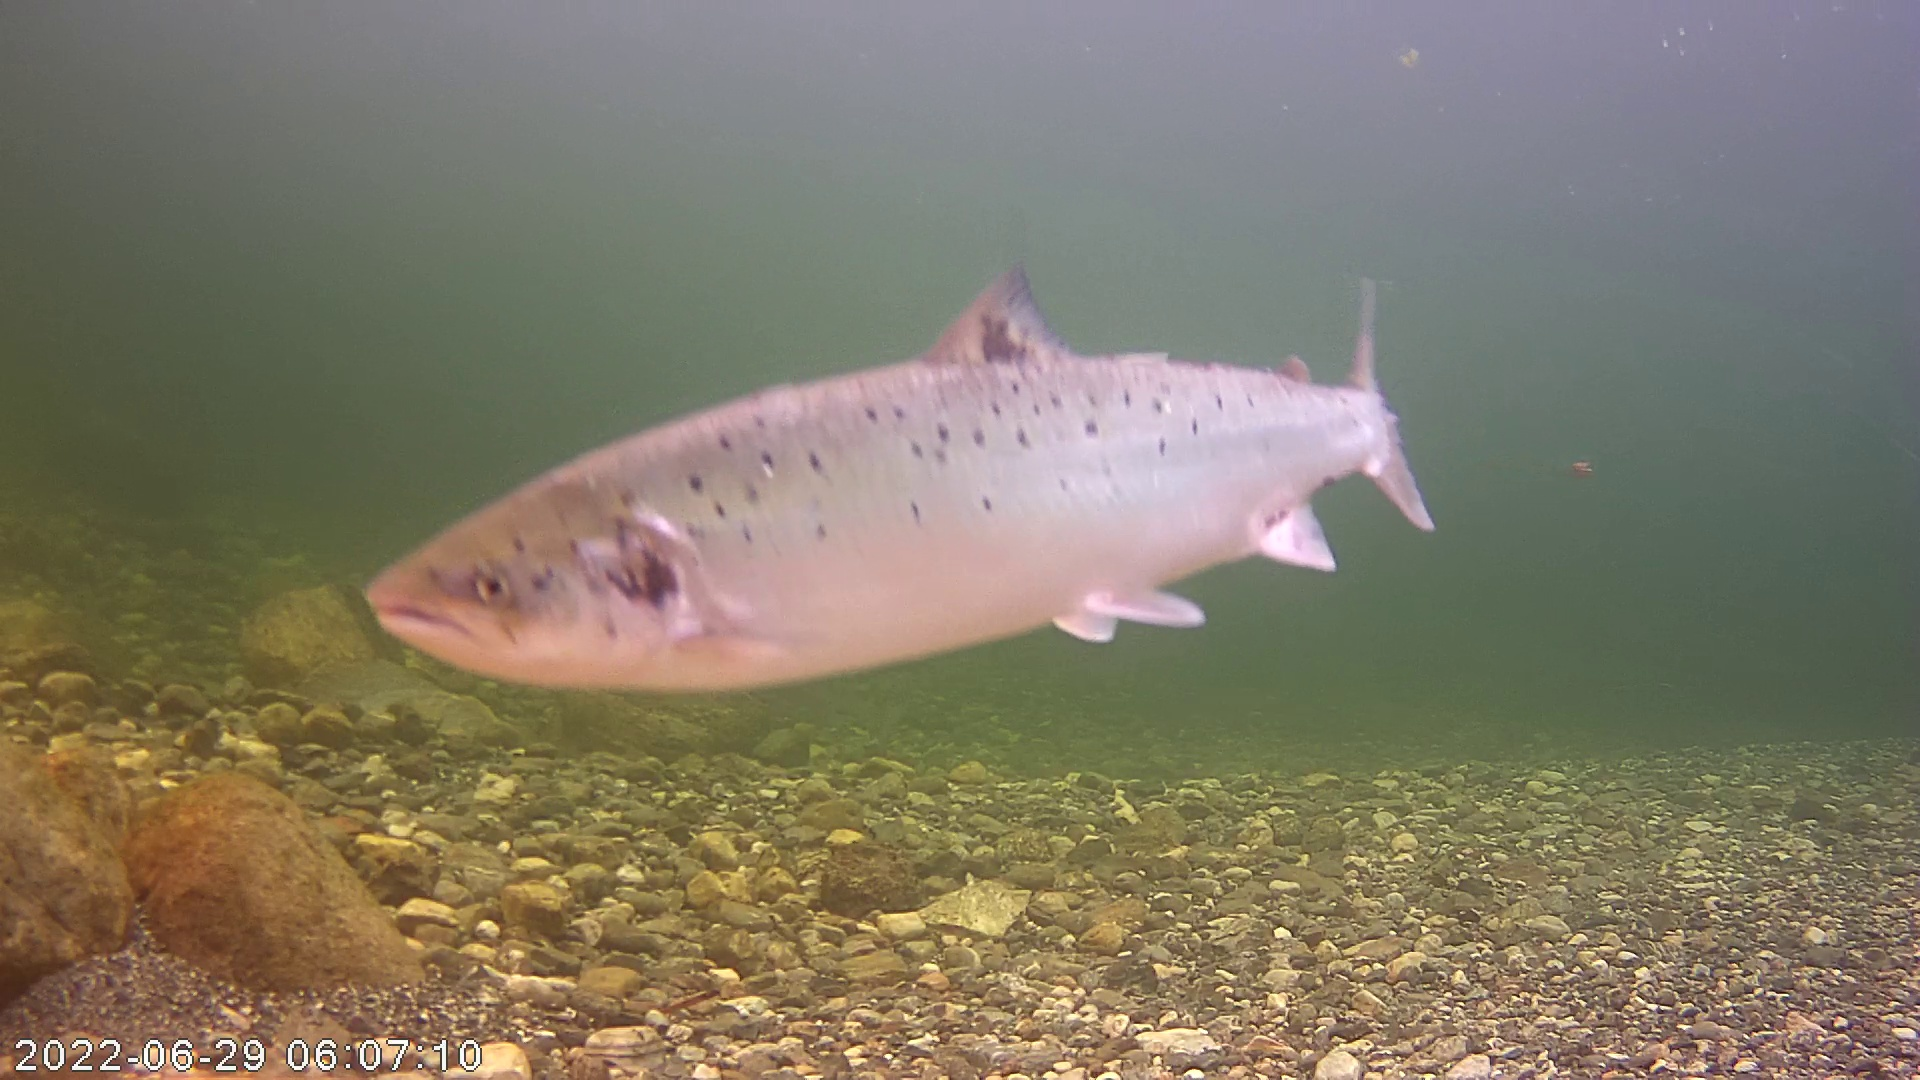salmon: (360, 229, 1443, 723)
